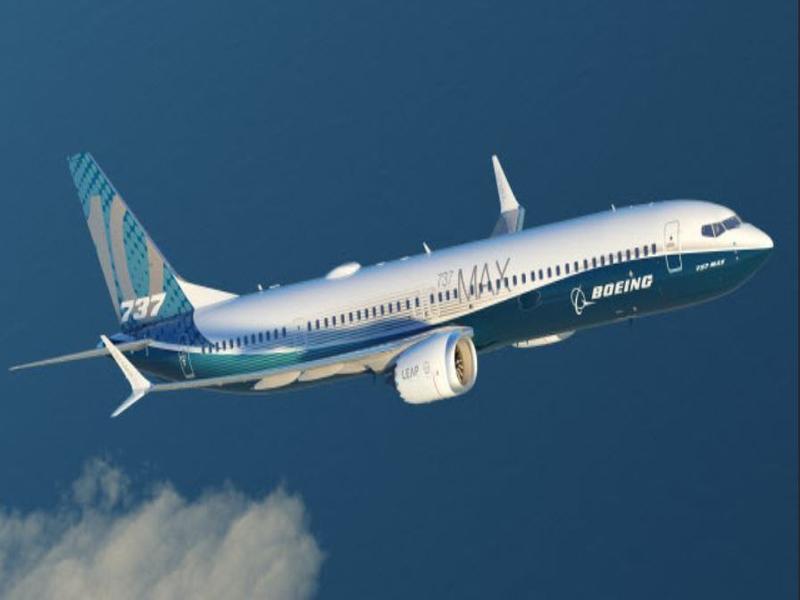737-MAX: (5, 151, 783, 420)
